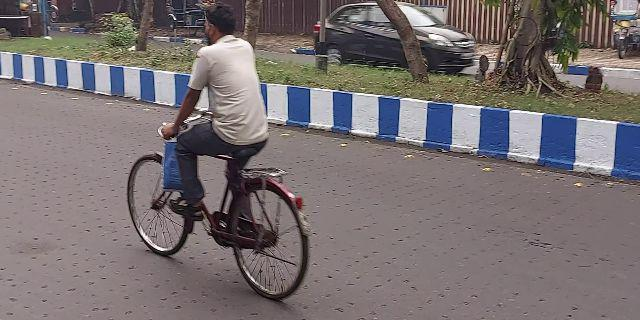Car: (325, 1, 478, 70)
Cycle: (127, 5, 313, 303)
